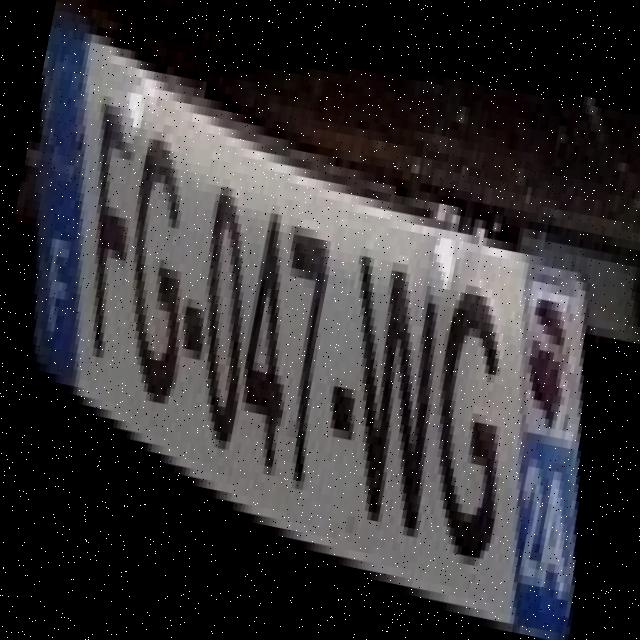EU: (25, 23, 594, 640)
France: (31, 34, 91, 383)
